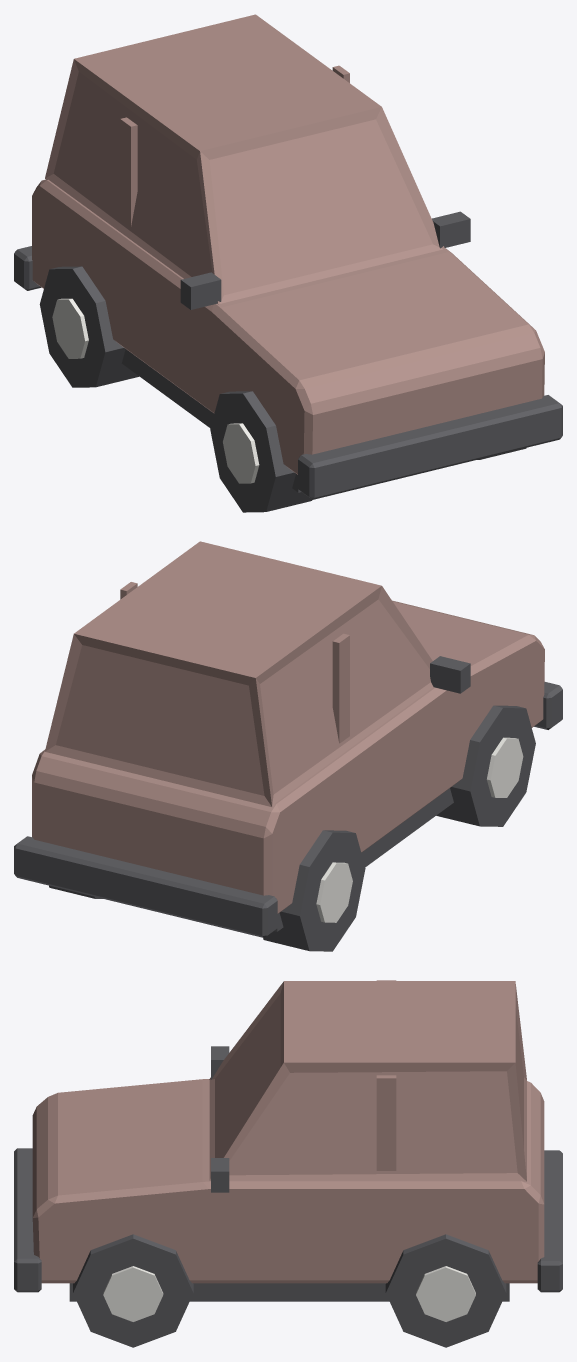
File: car_no_face.glb
3 renders of one model, top to bottom at view 1: azimuth 30°, elevation 25°; view 2: azimuth 150°, elevation 25°; view 3: azimuth 270°, elevation 25°, orthographic. The views are drawn at different scales.
Visible parts, largest first — view 1: CarNoFace_Cabin, CarNoFace_Body, CarNoFace_BumperFront, CarNoFace_Tire_FL, CarNoFace_Tire_BL, CarNoFace_BPillar_L, CarNoFace_Underbody, CarNoFace_Hub_BL, CarNoFace_Hub_FL, CarNoFace_Mirror_L, CarNoFace_Mirror_R, CarNoFace_BumperRear; view 2: CarNoFace_Cabin, CarNoFace_Body, CarNoFace_BumperRear, CarNoFace_Tire_BL, CarNoFace_Tire_FL, CarNoFace_BPillar_L, CarNoFace_Underbody, CarNoFace_Hub_BL, CarNoFace_Hub_FL, CarNoFace_Mirror_L, CarNoFace_BumperFront; view 3: CarNoFace_Body, CarNoFace_Cabin, CarNoFace_Tire_BR, CarNoFace_Tire_FR, CarNoFace_Underbody, CarNoFace_BumperFront, CarNoFace_BumperRear, CarNoFace_Hub_FR, CarNoFace_Hub_BR, CarNoFace_BPillar_R, CarNoFace_Mirror_R.
Boxes of the visible parts, left/top/right/bottom form: CarNoFace_Cabin: left=45, top=14, right=444, bottom=304; CarNoFace_Body: left=32, top=179, right=544, bottom=474; CarNoFace_BumperFront: left=298, top=395, right=562, bottom=499; CarNoFace_Tire_FL: left=210, top=391, right=312, bottom=512; CarNoFace_Tire_BL: left=39, top=266, right=139, bottom=387; CarNoFace_BPillar_L: left=120, top=117, right=137, bottom=227; CarNoFace_Underbody: left=121, top=349, right=301, bottom=492; CarNoFace_Hub_BL: left=52, top=298, right=88, bottom=358; CarNoFace_Hub_FL: left=223, top=423, right=259, bottom=483; CarNoFace_Mirror_L: left=180, top=272, right=221, bottom=309; CarNoFace_Mirror_R: left=432, top=211, right=470, bottom=248; CarNoFace_BumperRear: left=14, top=246, right=41, bottom=290; CarNoFace_Cabin: left=45, top=541, right=433, bottom=806; CarNoFace_Body: left=32, top=600, right=544, bottom=913; CarNoFace_BumperRear: left=14, top=836, right=277, bottom=937; CarNoFace_Tire_BL: left=263, top=830, right=365, bottom=951; CarNoFace_Tire_FL: left=436, top=705, right=535, bottom=826; CarNoFace_BPillar_L: left=332, top=633, right=349, bottom=743; CarNoFace_Underbody: left=274, top=788, right=453, bottom=931; CarNoFace_Hub_BL: left=316, top=862, right=352, bottom=922; CarNoFace_Hub_FL: left=486, top=737, right=523, bottom=797; CarNoFace_Mirror_L: left=430, top=656, right=470, bottom=693; CarNoFace_BumperFront: left=534, top=682, right=562, bottom=729; CarNoFace_Body: left=32, top=1079, right=544, bottom=1283; CarNoFace_Cabin: left=209, top=981, right=526, bottom=1181; CarNoFace_Tire_BR: left=385, top=1234, right=506, bottom=1347; CarNoFace_Tire_FR: left=73, top=1234, right=193, bottom=1347; CarNoFace_Underbody: left=69, top=1283, right=509, bottom=1301; CarNoFace_BumperFront: left=14, top=1148, right=41, bottom=1292; CarNoFace_BumperRear: left=537, top=1150, right=562, bottom=1292; CarNoFace_Hub_FR: left=103, top=1266, right=163, bottom=1321; CarNoFace_Hub_BR: left=416, top=1266, right=475, bottom=1321; CarNoFace_BPillar_R: left=376, top=1075, right=396, bottom=1170; CarNoFace_Mirror_R: left=211, top=1158, right=229, bottom=1192.
Bounding box in the file's own units: 0.256 × 0.255 × 0.474.
